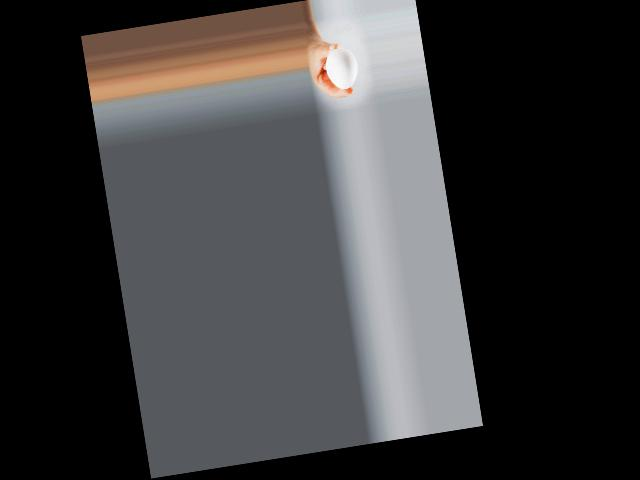egg: (324, 46, 360, 92)
